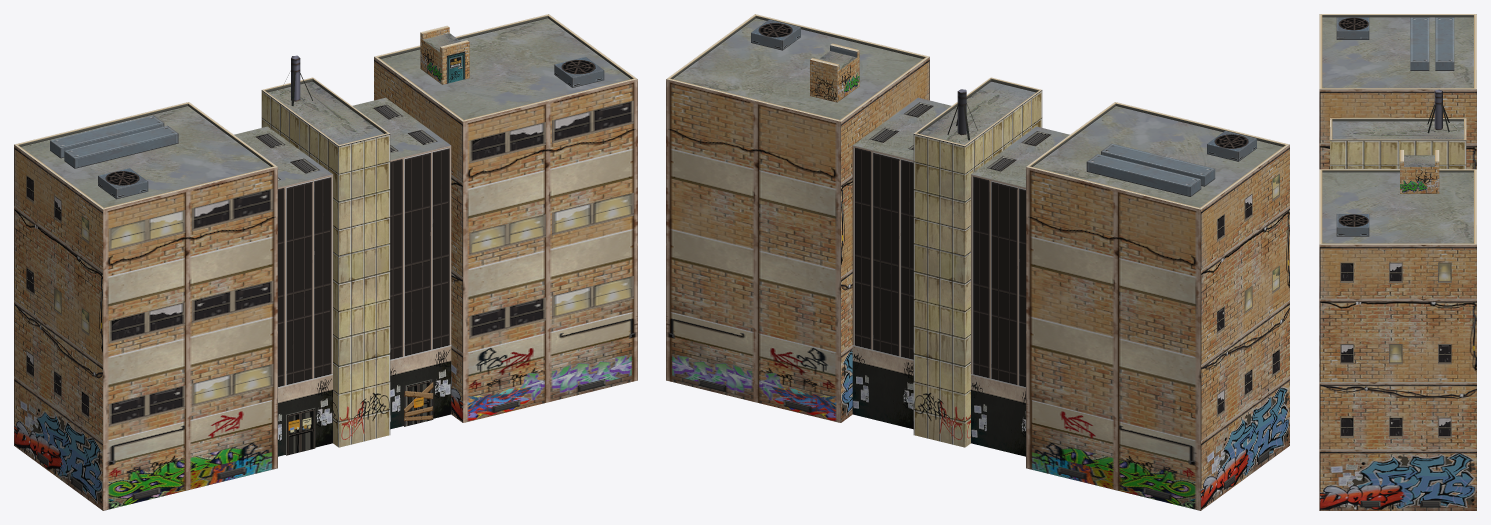
File: projects.glb
The picture shows the model from 3 angles, left to right: view 1: azimuth 30°, elevation 25°; view 2: azimuth 150°, elevation 25°; view 3: azimuth 270°, elevation 25°; orthographic projection. The views are drawn at different scales.
Parts seen in each view (by area): view 1: projects; view 2: projects; view 3: projects.
Part boxes in pixels (bbox=[...]): projects: bbox=[14, 14, 637, 510]; projects: bbox=[666, 14, 1289, 510]; projects: bbox=[1319, 14, 1476, 510].
Bounding box in the file's own units: 52.35 × 31.66 × 15.13.
Materials: 1 (1 with a texture image).
